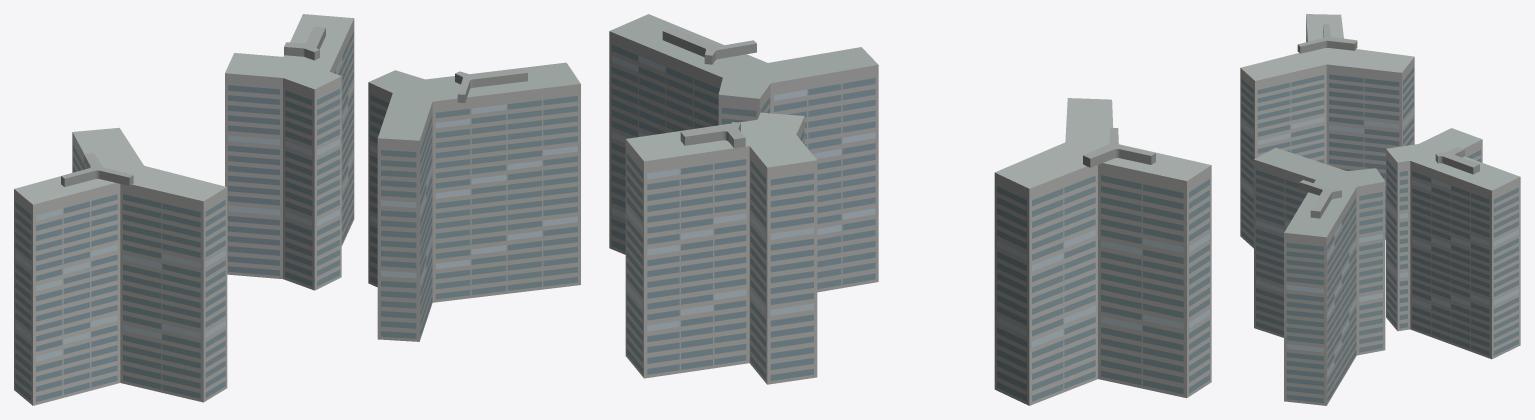
File: apt-a14270301.glb
3 views of the same model, side by side, from view 1: azimuth 30°, elevation 25°; view 2: azimuth 150°, elevation 25°; view 3: azimuth 270°, elevation 25° (orthographic). The views are drawn at different scales.
Parts seen in each view (by area): view 1: apt-a14270301; view 2: apt-a14270301; view 3: apt-a14270301.
Part boxes in pixels (<box>): apt-a14270301: <box>14,14,580,405</box>; apt-a14270301: <box>609,14,1211,405</box>; apt-a14270301: <box>1240,14,1520,405</box>.
Bounding box in the file's own units: 164 × 60 × 86.72.
